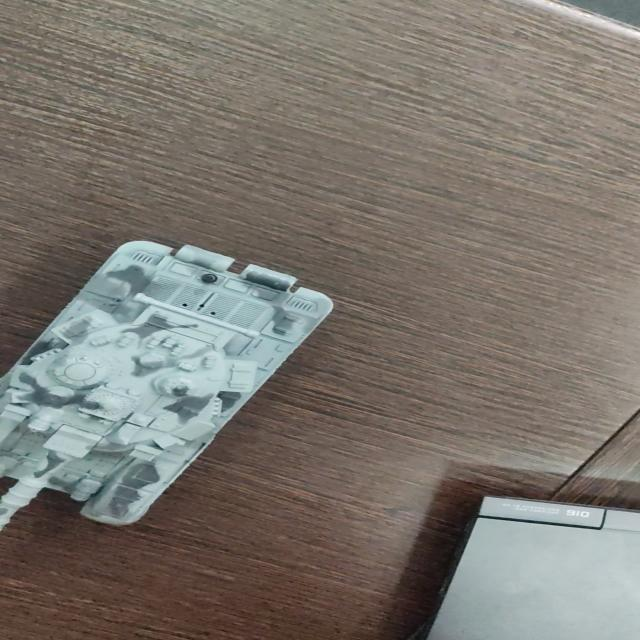tank: (0, 233, 344, 534)
